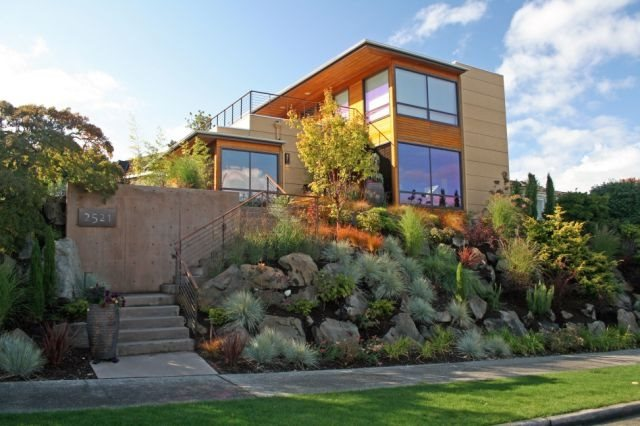tree: (280, 95, 382, 222)
